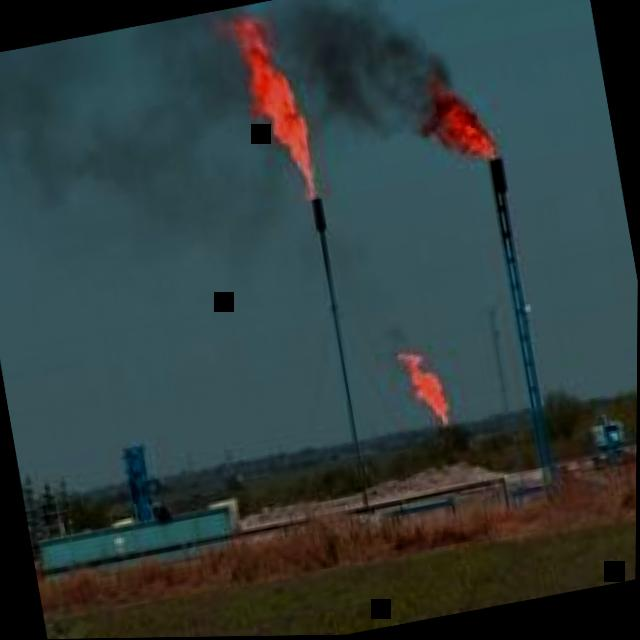fire: (216, 15, 322, 199), (415, 81, 497, 162), (400, 353, 451, 433)
smoke: (0, 7, 314, 257), (260, 0, 456, 142), (381, 324, 413, 378)
